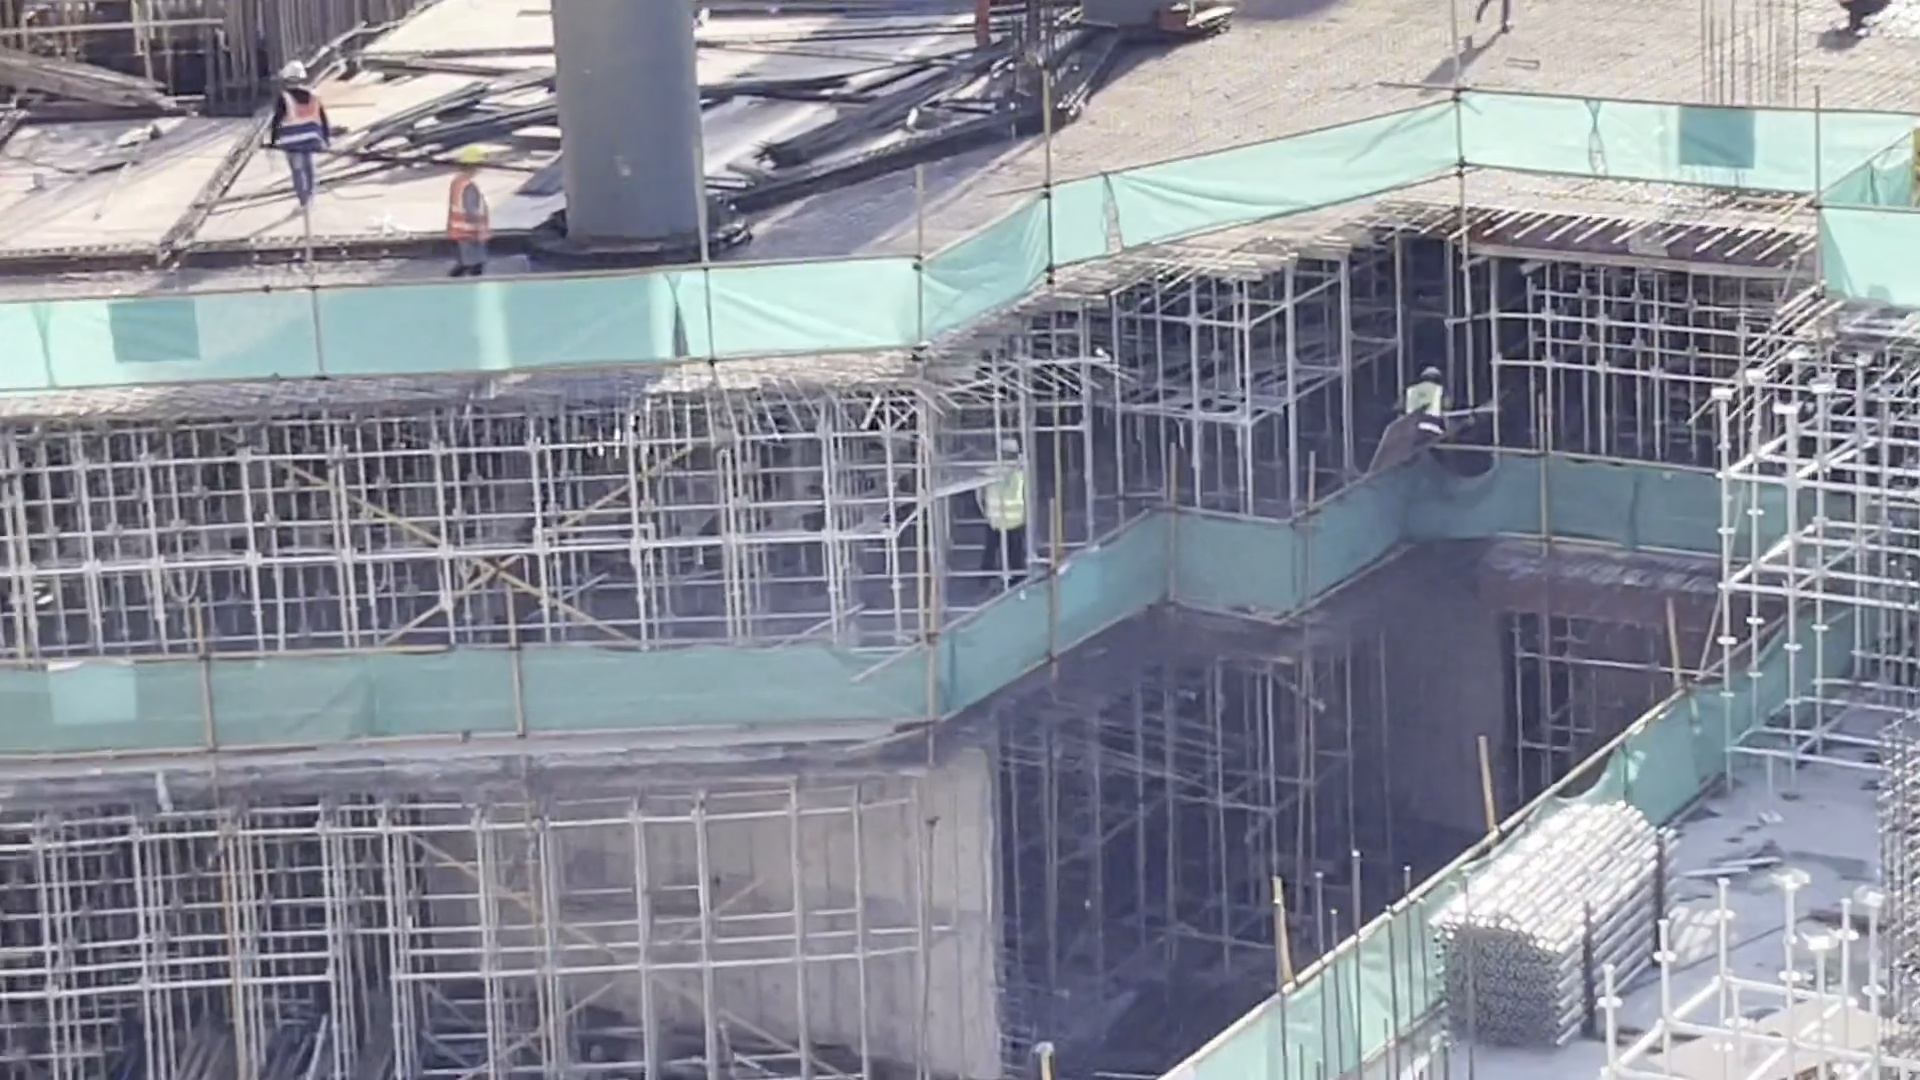helmet: (458, 143, 486, 176), (993, 438, 1033, 458), (1419, 361, 1445, 386), (282, 60, 308, 82)
person: (267, 60, 330, 216), (969, 439, 1037, 580), (438, 152, 495, 291), (1411, 369, 1467, 461)
rebar: (761, 45, 997, 171), (372, 87, 482, 143), (423, 103, 558, 143)
scaffold: (1452, 790, 1673, 1035)
vest: (975, 464, 1032, 534), (276, 89, 331, 153), (446, 178, 499, 240), (1405, 379, 1444, 436)
